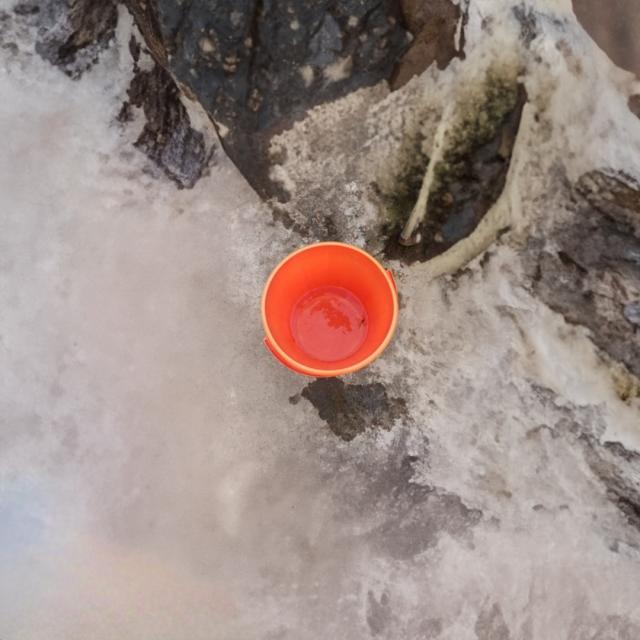Breeding Place: (369, 80, 550, 284), (249, 233, 419, 406)
